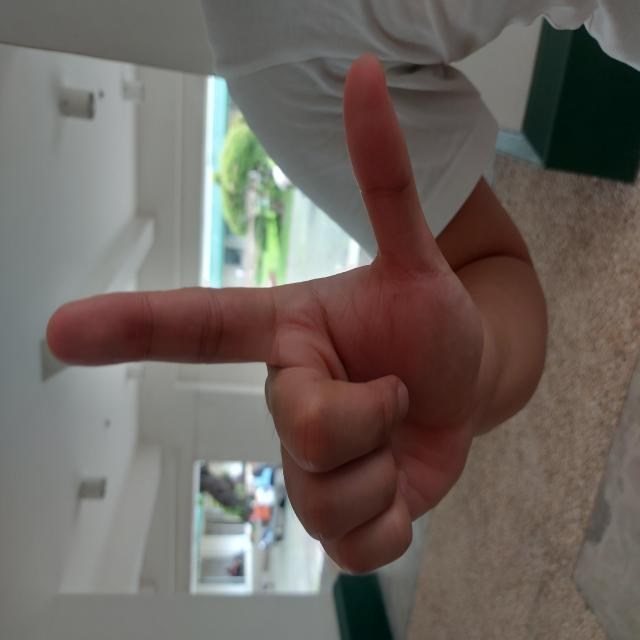L: (61, 44, 590, 487)
